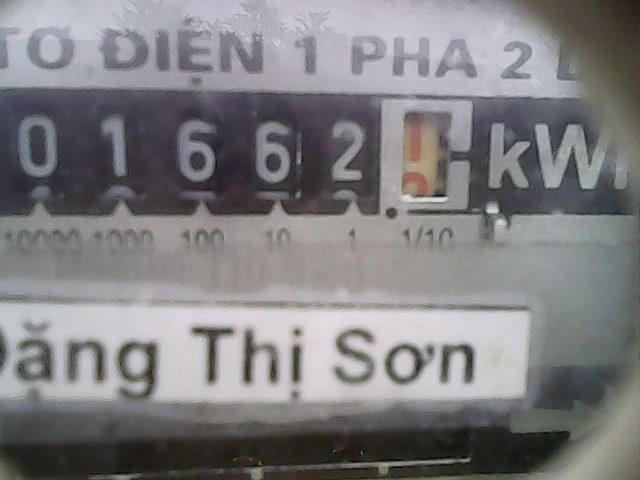phy_plate: (2, 84, 480, 219)
